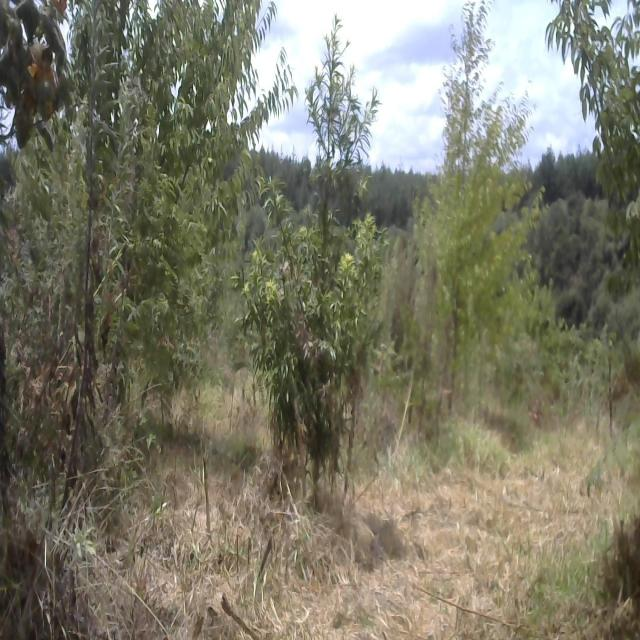Podocarpus falcatus: (238, 23, 387, 446)
other: (60, 0, 299, 384), (412, 4, 550, 407), (546, 3, 640, 382), (0, 0, 64, 161)
